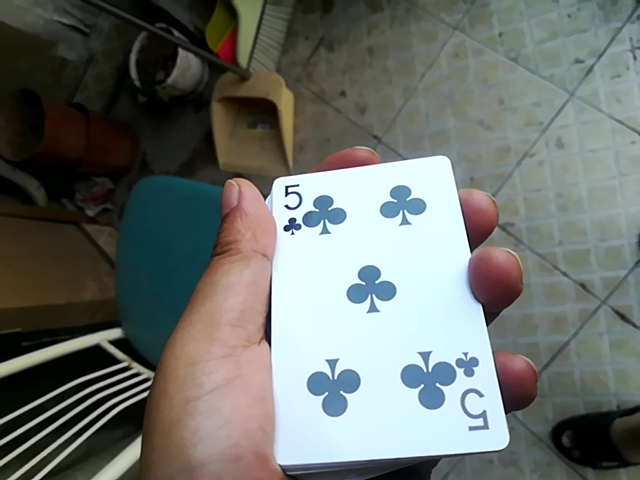mh 5: (267, 156, 494, 480)
